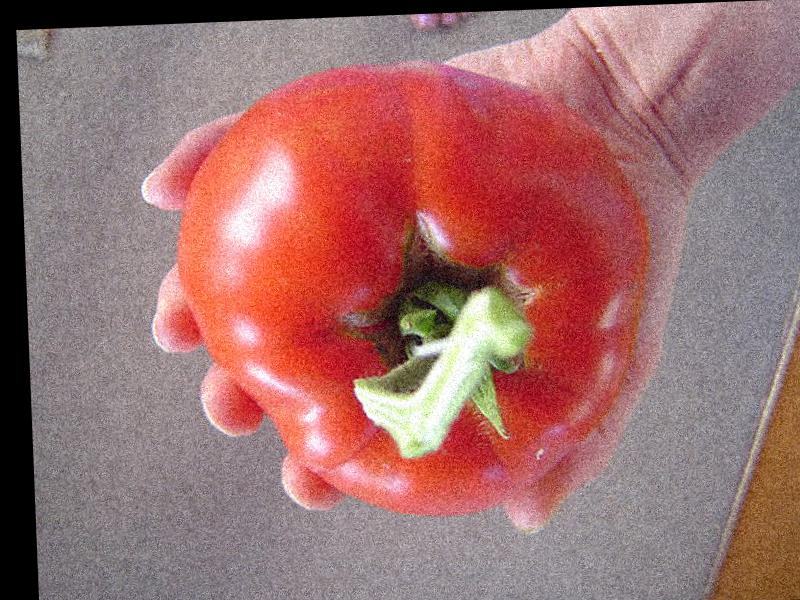Tomato: (171, 54, 657, 527)
